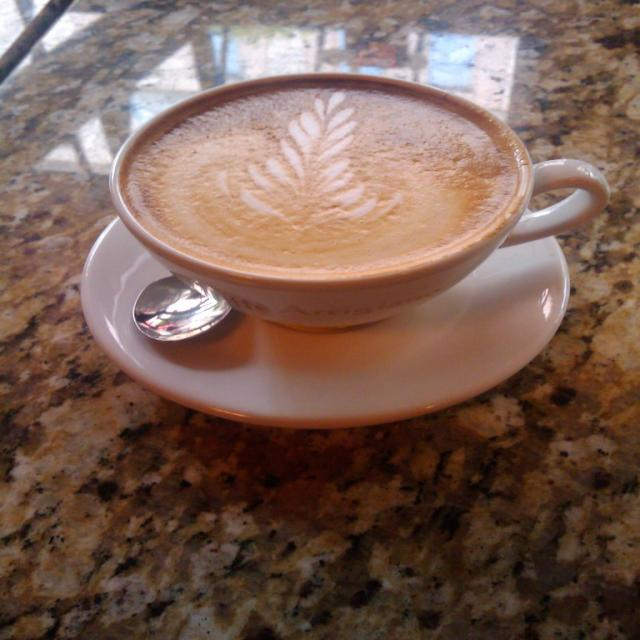latte: (108, 70, 532, 285)
